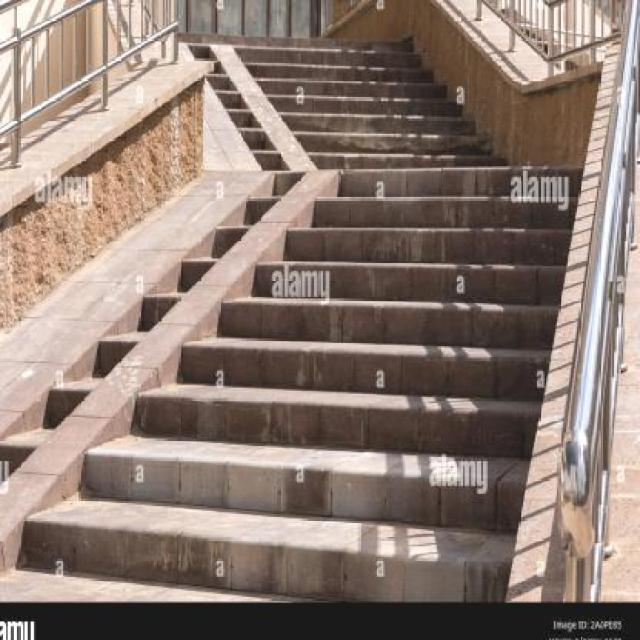stair: (0, 0, 622, 600)
